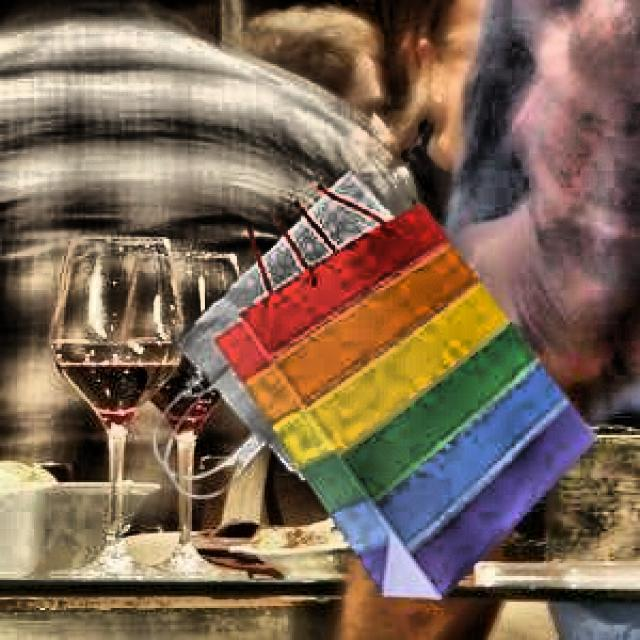Paper-bag: (193, 199, 599, 599), (145, 148, 453, 492)
